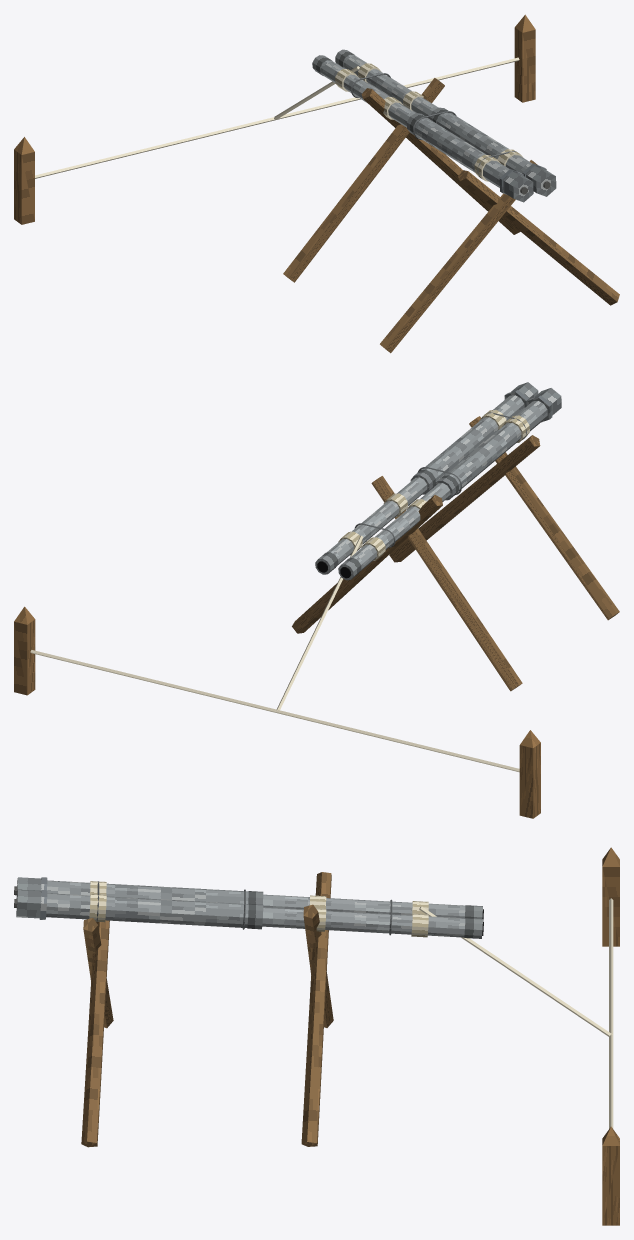
The model's file is tr_shotgun_2.glb.
The picture shows the model from 3 angles, top to bottom: view 1: azimuth 30°, elevation 25°; view 2: azimuth 150°, elevation 25°; view 3: azimuth 270°, elevation 25°; orthographic projection. The views are drawn at different scales.
Visible parts, largest first — view 1: block_rest stick (×4), block_receiver (×2), block_stake (×2), block_barrel (×2), block_string, block_end cap (×2); view 2: block_rest stick (×4), block_receiver (×2), block_stake (×2), block_barrel (×2), block_string (×2); view 3: block_rest stick (×4), block_receiver (×2), block_barrel (×2), block_stake (×2), block_string (×2), block_end cap.
Part boxes in pixels (x1,y1,x2,y2): block_rest stick (×4): (283, 78, 619, 353); block_receiver (×2): (413, 112, 532, 187); block_stake (×2): (14, 14, 535, 224); block_barrel (×2): (320, 54, 438, 127); block_string: (35, 57, 519, 178); block_end cap (×2): (503, 166, 556, 202); block_rest stick (×4): (292, 416, 619, 691); block_receiver (×2): (411, 395, 547, 499); block_stake (×2): (14, 606, 540, 818); block_barrel (×2): (316, 477, 450, 579); block_string (×2): (30, 535, 519, 772); block_rest stick (×4): (81, 872, 333, 1147); block_receiver (×2): (46, 880, 248, 927); block_barrel (×2): (262, 894, 465, 937); block_stake (×2): (602, 847, 619, 1225); block_string (×2): (419, 898, 613, 1128); block_end cap: (16, 890, 41, 918).
Size of the model in its own units: 0.924 by 0.3071 by 0.8258.
2 materials, 2 textured.
